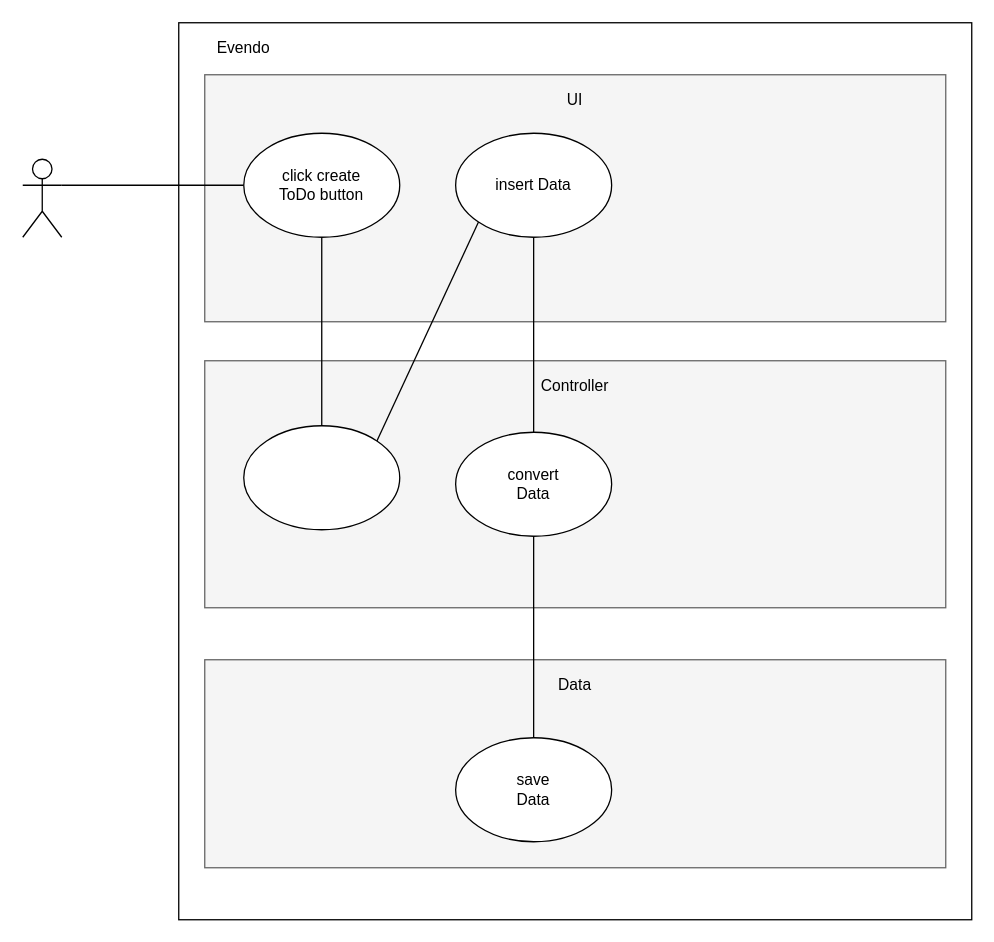
The diagram is 994 pixels wide and 942 high, and some of its shapes have lost their labels. Here are the shapes that lost their labels. From the top down, the centre of each, then its label:
At (41,197): "Actor".
At (321,477): "open create ToDO dialog".
